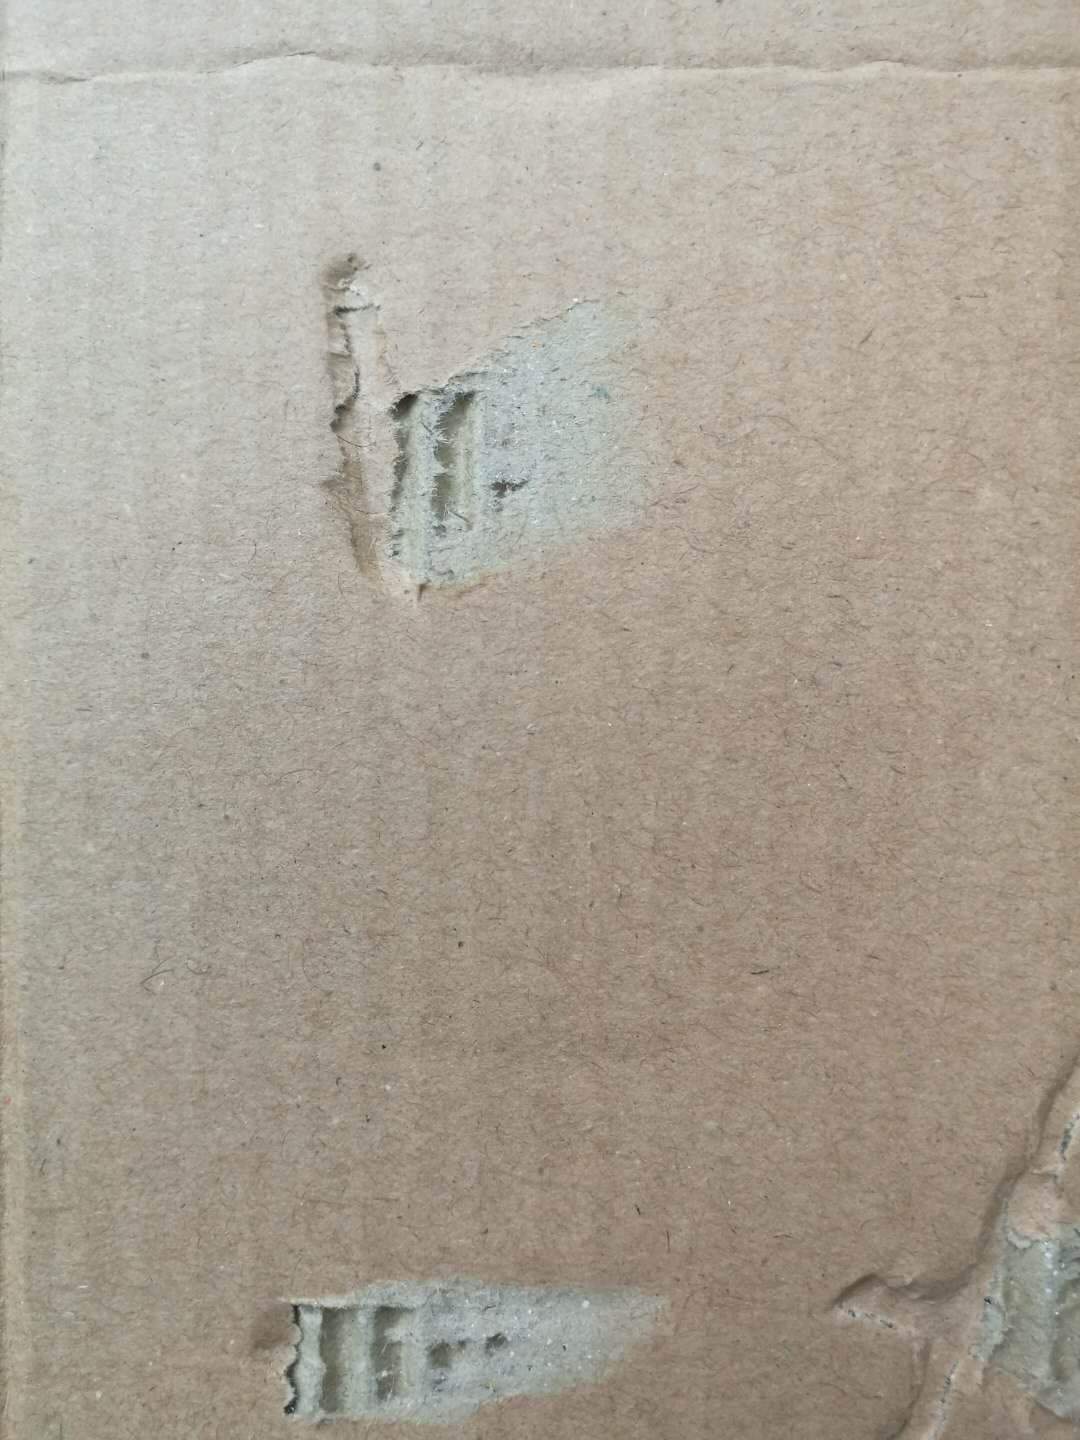defect: (241, 221, 723, 636), (2, 12, 1080, 141), (788, 1020, 1080, 1437), (220, 1250, 711, 1439)
